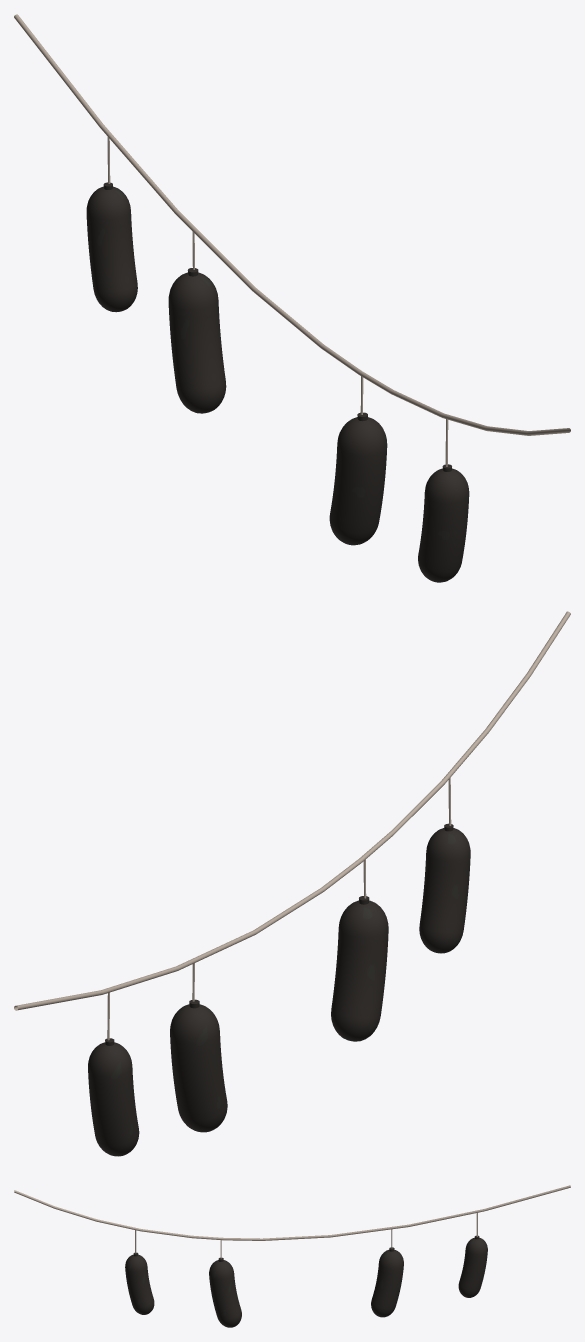
The model's file is butifarres.fbx.
3 views of the same model, one above another, from view 1: azimuth 30°, elevation 25°; view 2: azimuth 150°, elevation 25°; view 3: azimuth 270°, elevation 25° (orthographic). The views are drawn at different scales.
Visible parts, largest first — view 1: Butifarres, Cuerda; view 2: Butifarres, Cuerda; view 3: Butifarres, Cuerda.
Part boxes in pixels (x1,y1,x2,y2): Butifarres: (86,182,469,582); Cuerda: (14,14,570,466); Butifarres: (88,823,470,1156); Cuerda: (14,611,570,1040); Butifarres: (125,1235,487,1327); Cuerda: (14,1185,570,1258).
Bounding box in the file's own units: 14.63 × 90.72 × 324.
2 materials, 2 textured.
